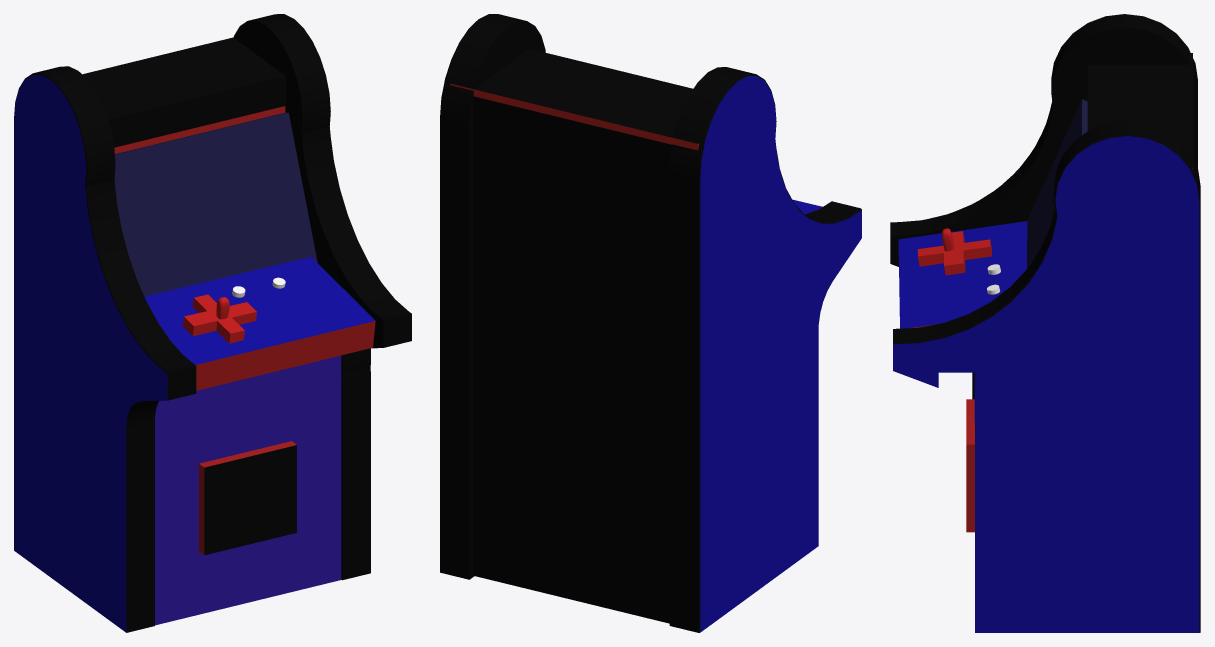
Rendered from arcade.gltf.
3 renders of one model, left to right at view 1: azimuth 30°, elevation 25°; view 2: azimuth 150°, elevation 25°; view 3: azimuth 270°, elevation 25°, orthographic. The views are drawn at different scales.
Size of the model in its own units: 67.37 by 131 by 73.81.
